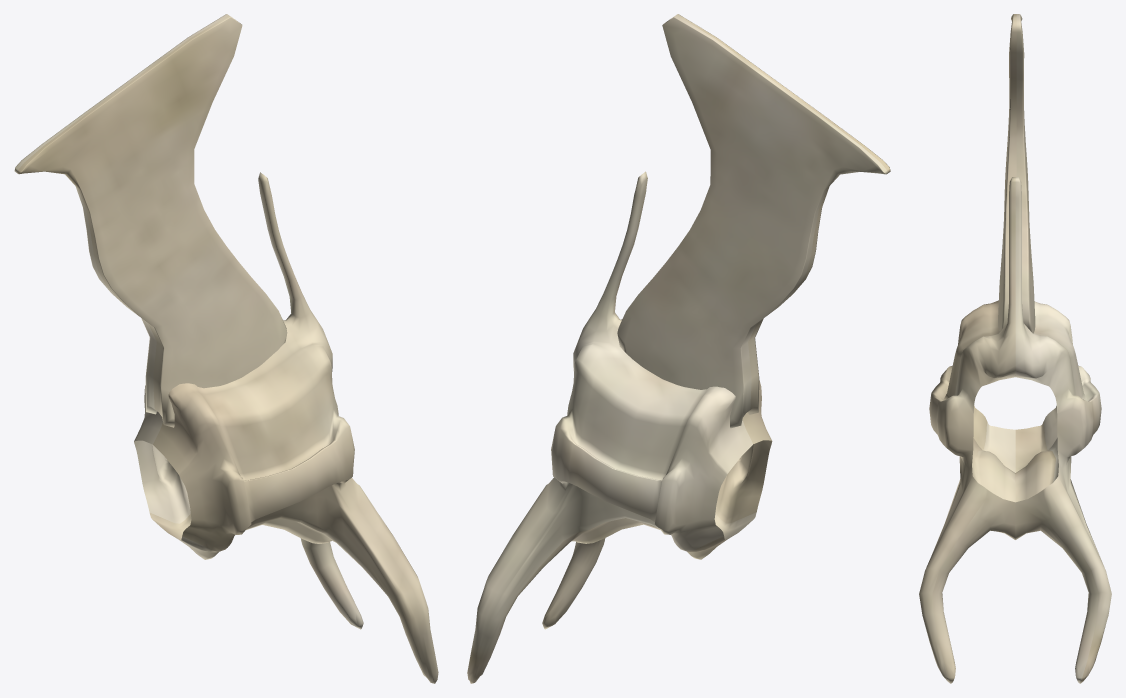
The model's file is bagian1.glb.
The picture shows the model from 3 angles, left to right: view 1: azimuth 30°, elevation 25°; view 2: azimuth 150°, elevation 25°; view 3: azimuth 270°, elevation 25°; orthographic projection. The views are drawn at different scales.
Visible parts, largest first — view 1: Tulang_MSH34; view 2: Tulang_MSH34; view 3: Tulang_MSH34.
Part boxes in pixels (bbox=[...]): Tulang_MSH34: bbox=[14, 14, 438, 683]; Tulang_MSH34: bbox=[467, 14, 890, 683]; Tulang_MSH34: bbox=[919, 14, 1111, 683].
Size of the model in its own units: 0.027 by 0.0462 by 0.0136.
Materials: 1 (1 with a texture image).
